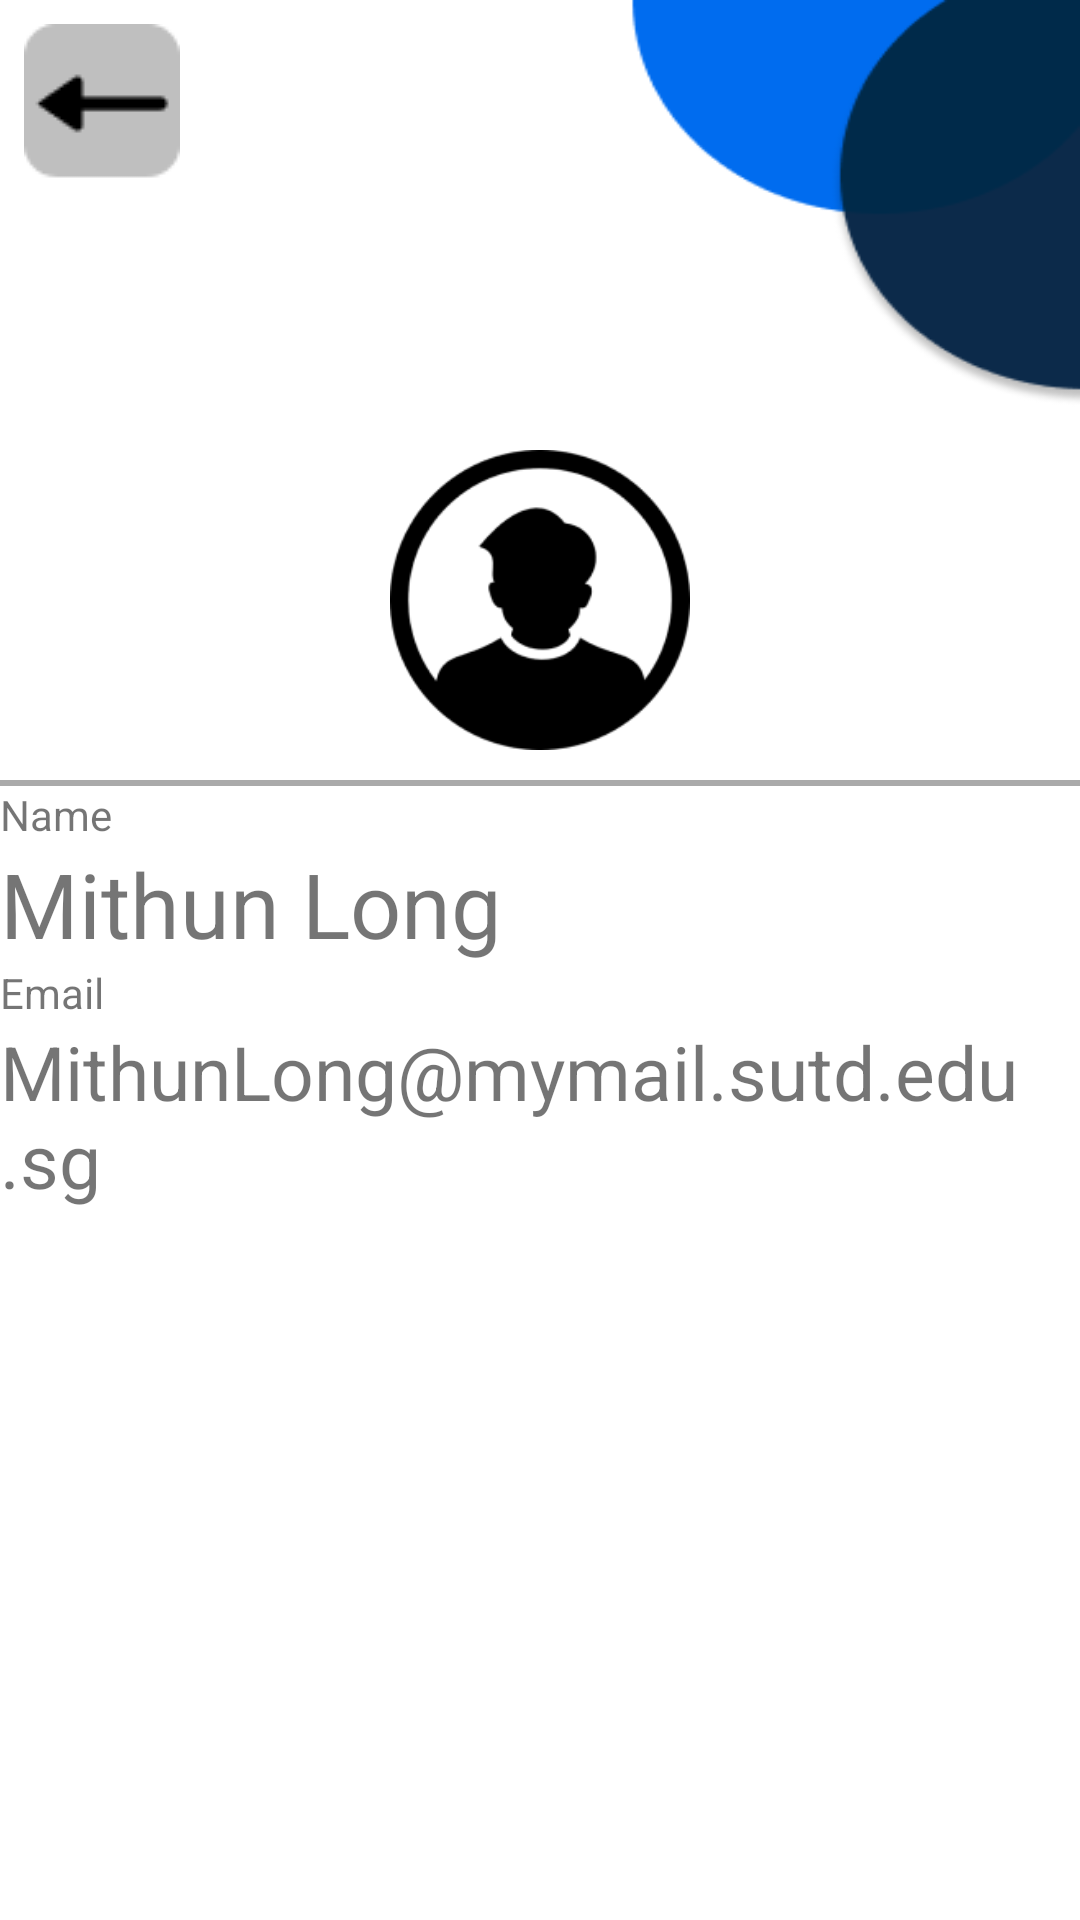

Icon bounding boxes for this 1080 × 1920 phone screenshot, format (x1, y1, x2, y2):
backbutton: (24, 24, 180, 177)
profile picture: (390, 450, 690, 750)
